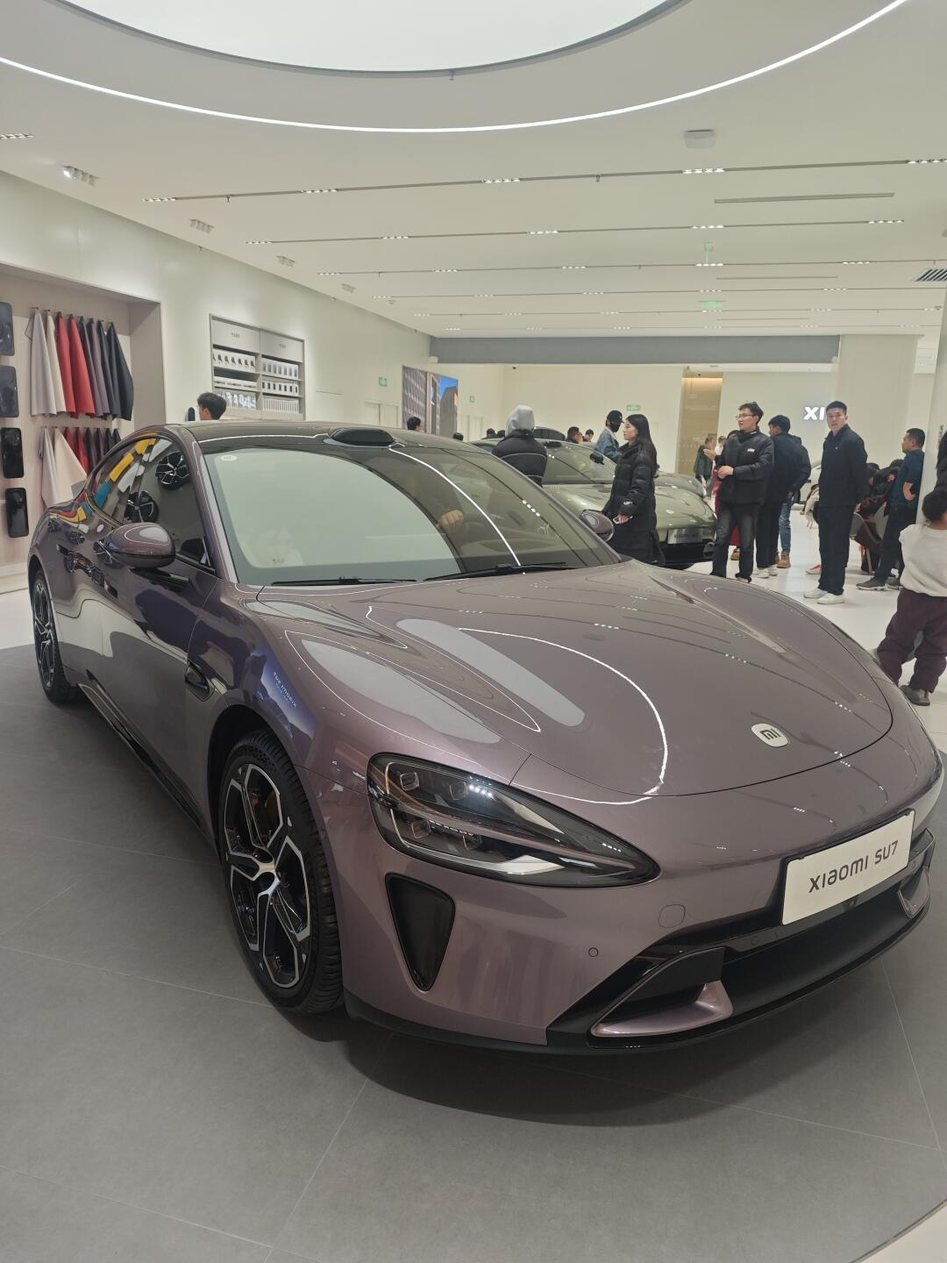su7: (37, 414, 947, 1066)
